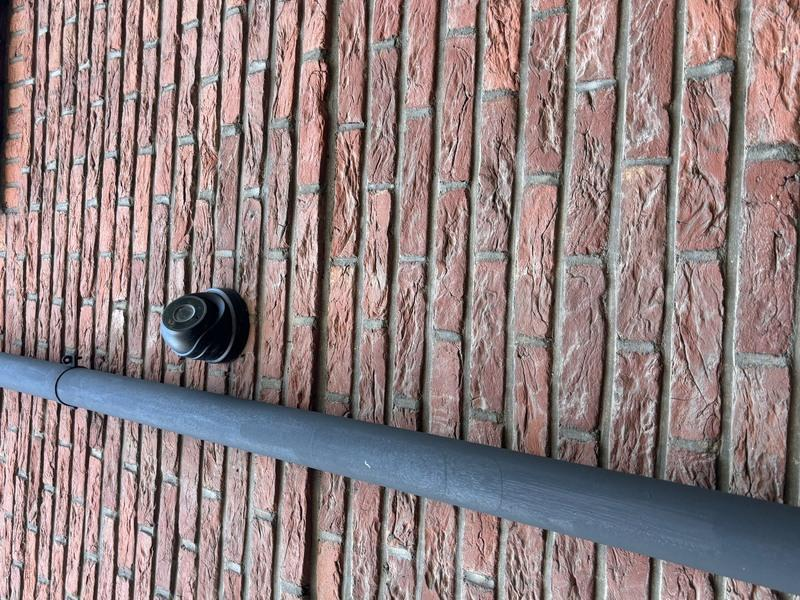turret: (228, 154, 324, 251)
